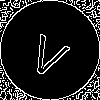V: (25, 25, 75, 81)
